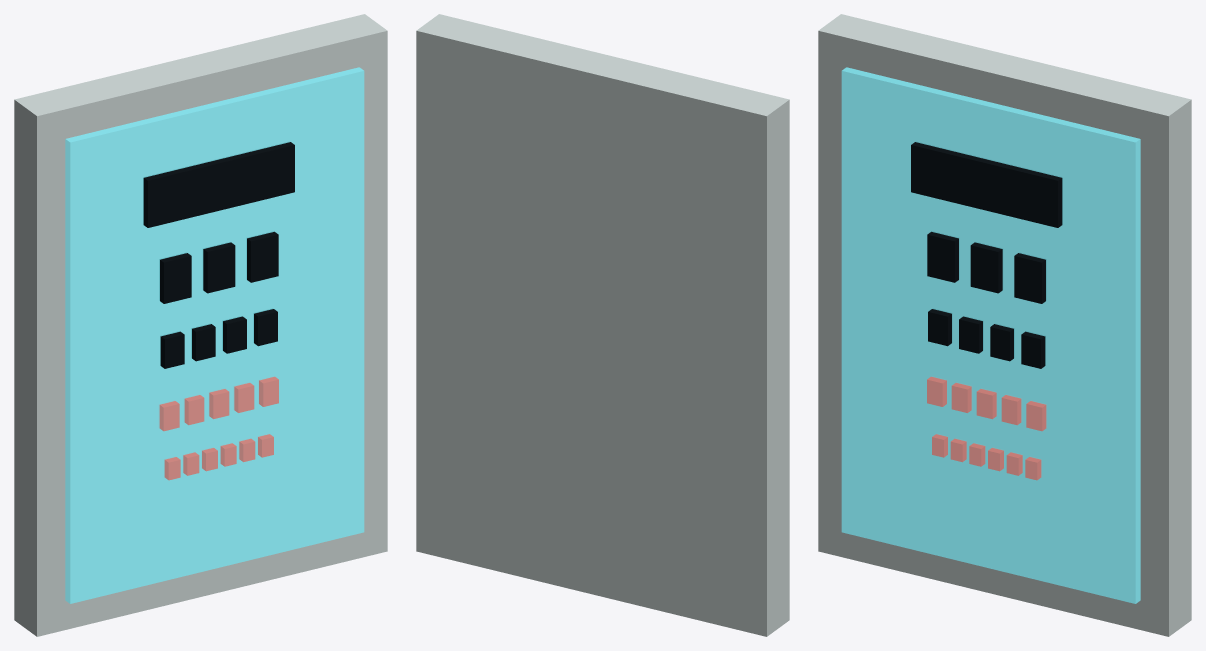
File: hp_room_rm_clinic_eye_lightbox.glb
The picture shows the model from 3 angles, left to right: view 1: azimuth 30°, elevation 25°; view 2: azimuth 150°, elevation 25°; view 3: azimuth 330°, elevation 25°; orthographic projection.
Visible parts, largest first — view 1: lightbox_frame, lightbox_face, row_1, glyph_0.56_1, glyph_0.56_0, glyph_0.56_2, glyph_0.44_0, glyph_0.44_2, glyph_0.44_1, glyph_0.44_3, glyph_0.33_0, glyph_0.33_2 (+3 smaller); view 2: lightbox_frame; view 3: lightbox_frame, lightbox_face, row_1, glyph_0.56_1, glyph_0.56_2, glyph_0.56_0, glyph_0.44_3, glyph_0.44_1, glyph_0.44_2, glyph_0.44_0, glyph_0.33_4, glyph_0.33_2 (+3 smaller).
Boxes of the visible parts, <box> form: lightbox_frame: <box>14,14,387,636</box>; lightbox_face: <box>65,67,364,603</box>; row_1: <box>143,142,294,227</box>; glyph_0.56_1: <box>203,242,235,293</box>; glyph_0.56_0: <box>159,253,191,303</box>; glyph_0.56_2: <box>247,231,278,282</box>; glyph_0.44_0: <box>160,331,184,368</box>; glyph_0.44_2: <box>222,316,246,353</box>; glyph_0.44_1: <box>191,324,215,361</box>; glyph_0.44_3: <box>254,309,277,346</box>; glyph_0.33_0: <box>159,401,179,430</box>; glyph_0.33_2: <box>209,389,229,418</box>; lightbox_frame: <box>416,14,789,636</box>; lightbox_frame: <box>818,14,1191,636</box>; lightbox_face: <box>841,67,1140,603</box>; row_1: <box>911,142,1062,227</box>; glyph_0.56_1: <box>970,242,1002,293</box>; glyph_0.56_2: <box>1014,253,1046,303</box>; glyph_0.56_0: <box>927,231,958,282</box>; glyph_0.44_3: <box>1021,331,1045,368</box>; glyph_0.44_1: <box>959,316,983,353</box>; glyph_0.44_2: <box>990,324,1014,361</box>; glyph_0.44_0: <box>928,309,951,346</box>; glyph_0.33_4: <box>1026,401,1046,430</box>; glyph_0.33_2: <box>976,389,996,418</box>.
Bounding box in the file's own units: 0.62 × 0.88 × 0.0975.
